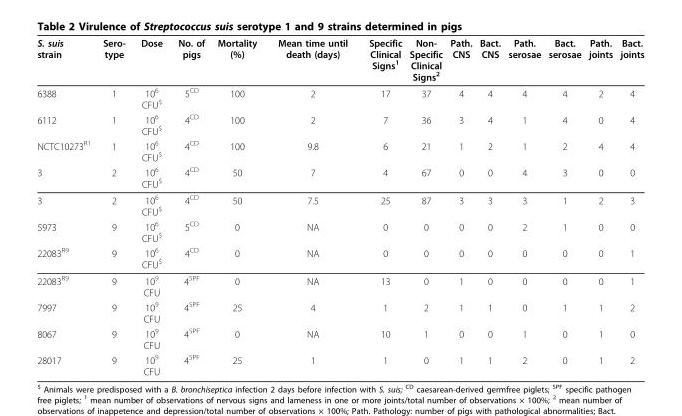table: (36, 36, 643, 376)
table column: (266, 36, 357, 376), (36, 36, 96, 376), (210, 36, 266, 376), (357, 36, 405, 376), (169, 36, 210, 376), (503, 36, 544, 376), (405, 36, 445, 376), (544, 36, 584, 376), (132, 36, 169, 376), (96, 36, 132, 376), (584, 36, 615, 376), (445, 36, 475, 376), (475, 36, 503, 376), (615, 36, 643, 376)
table column header: (36, 36, 643, 84)
table row: (36, 36, 643, 84), (36, 163, 643, 191), (36, 84, 643, 111), (36, 191, 643, 218), (36, 244, 643, 271), (36, 271, 643, 298), (36, 298, 643, 325), (36, 111, 643, 137), (36, 137, 643, 163), (36, 218, 643, 244), (36, 325, 643, 351), (36, 351, 643, 376)
